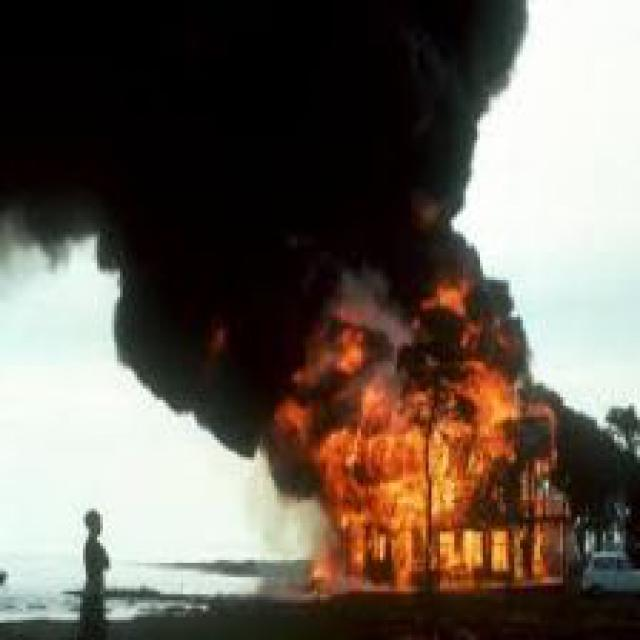fire: (254, 220, 586, 597)
